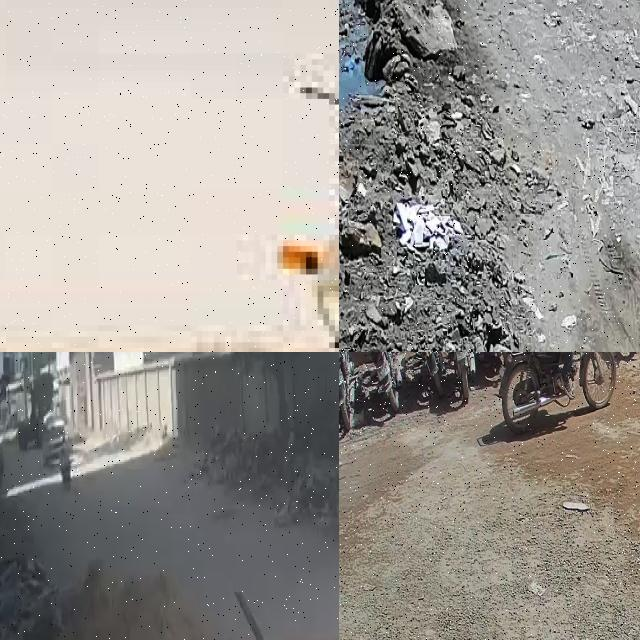bike: (69, 76, 339, 352), (495, 352, 615, 432), (357, 352, 402, 410), (404, 352, 446, 397), (442, 352, 477, 399), (339, 352, 355, 431)
